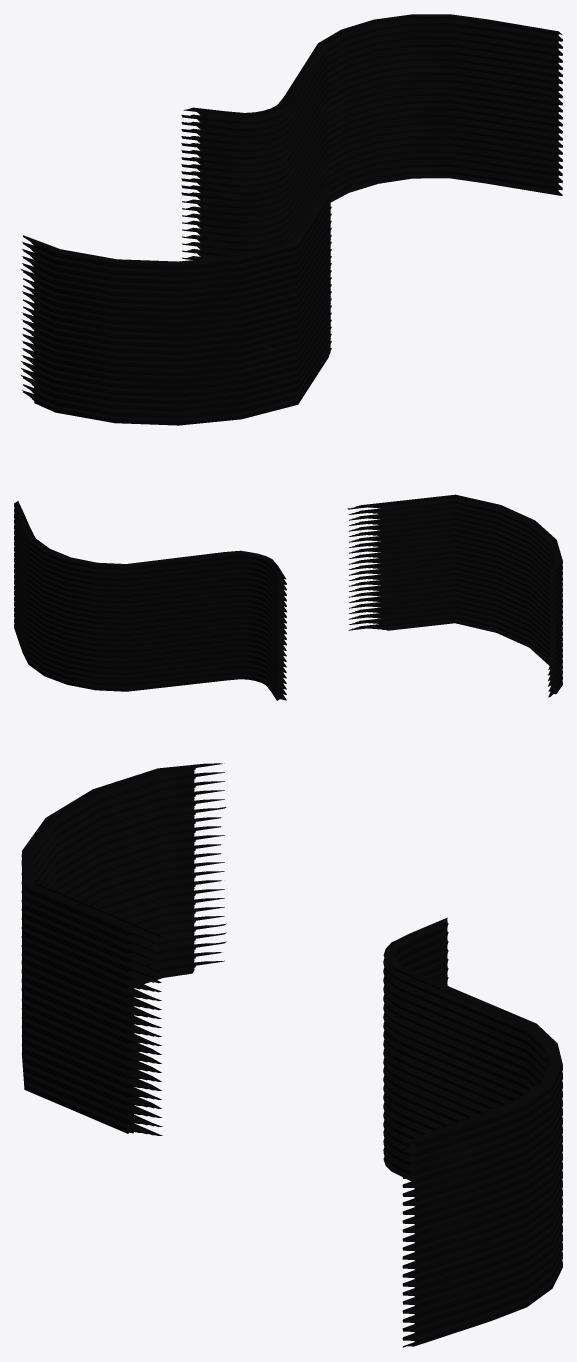
Rendered from Shelf 1.fbx.
3 renders of one model, top to bottom at view 1: azimuth 30°, elevation 25°; view 2: azimuth 150°, elevation 25°; view 3: azimuth 270°, elevation 25°, orthographic. The views are drawn at different scales.
Visible parts, largest first — view 1: Shelve_1; view 2: Shelve_1; view 3: Shelve_1.
Boxes of the visible parts, bbox=[...] form: Shelve_1: bbox=[21, 14, 562, 425]; Shelve_1: bbox=[14, 494, 562, 700]; Shelve_1: bbox=[21, 763, 562, 1347].
Bounding box in the file's own units: 5072 × 1282 × 3082.
